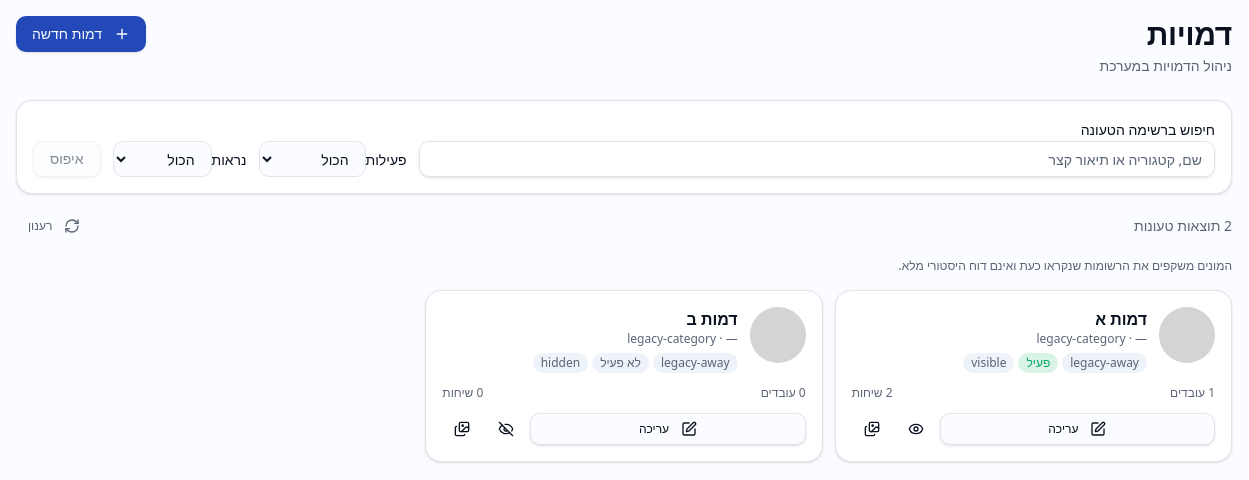
admin character workspace › filters only loaded rows, reports no-results, and resets all filters
Expected: the text "2 תוצאות טעונות" is shown, [1134,216,1232,236]
Type "לא קיימת" into the search field named "חיפוש בדמויות הטעונות" at (817, 159), box [419,141,1215,177]
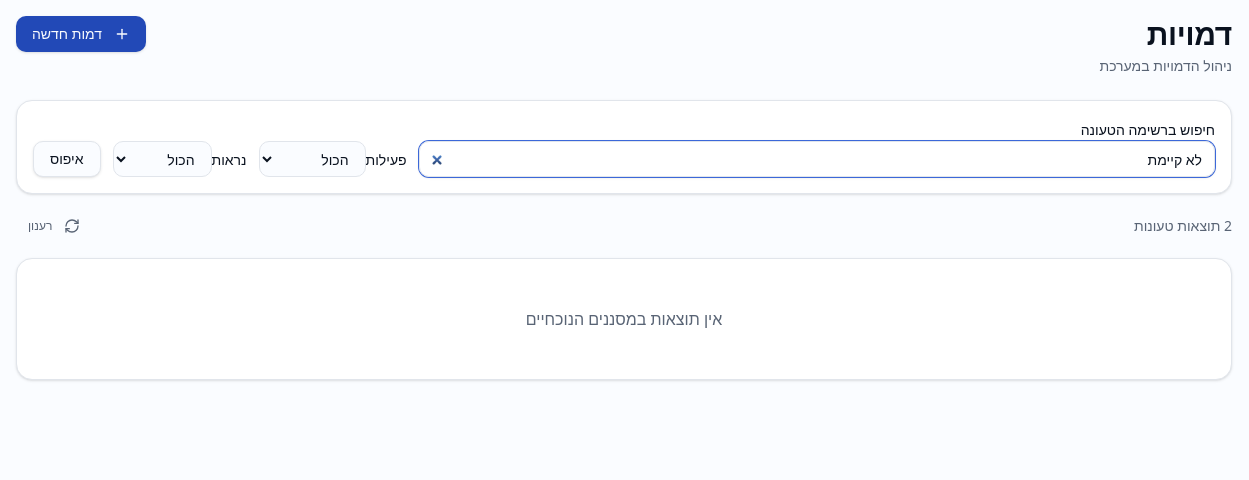
Expected: the text "אין תוצאות במסננים הנוכחיים" is shown, [526,308,722,330]
Click the button with aria-label "איפוס חיפוש ומסננים" at (67, 159), box [33,141,100,177]
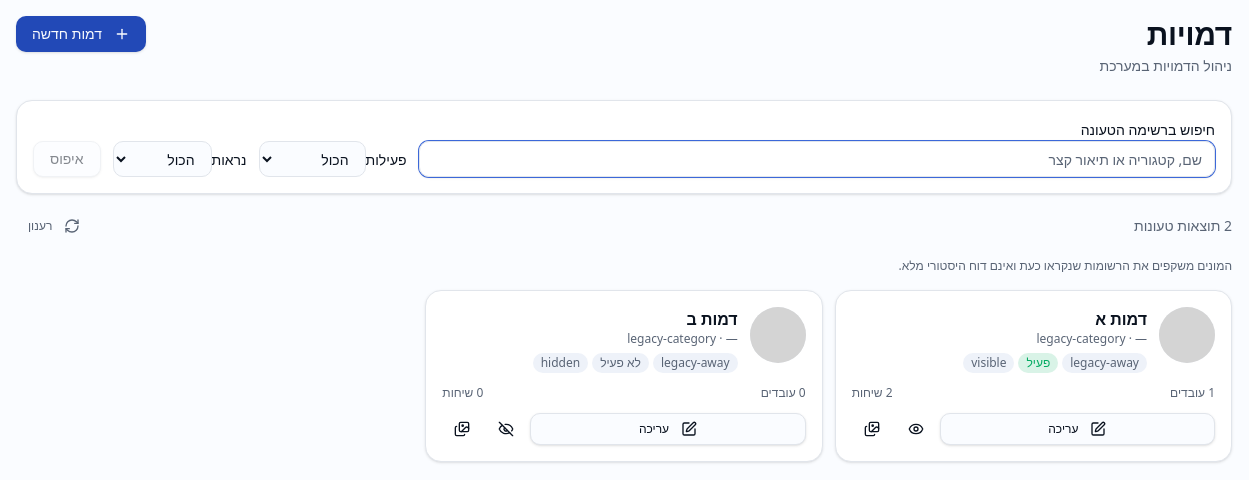
Expected: the text "דמות א" is shown, [1095,308,1147,330]
Expected: the text "דמות ב" is shown, [686,308,738,330]
